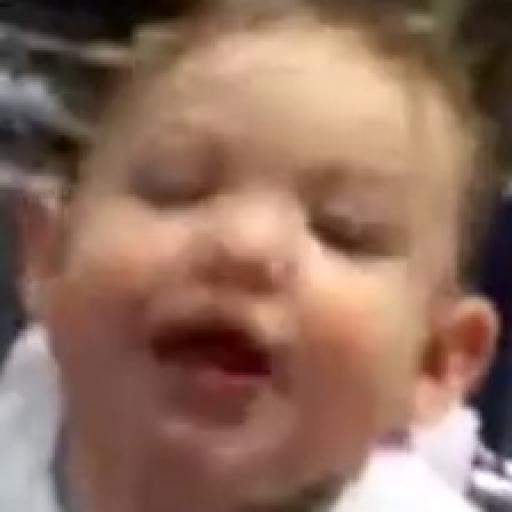Autism: (69, 64, 448, 512)
